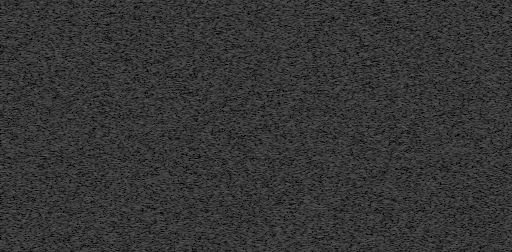wv_am: (197, 113, 202, 252), (197, 0, 202, 111)
wv_cw: (189, 0, 194, 233), (189, 236, 194, 252)
wv_lsb: (290, 151, 294, 191), (290, 6, 294, 43), (290, 200, 294, 237), (290, 51, 294, 78), (290, 128, 294, 150), (290, 111, 294, 127), (290, 85, 294, 101), (290, 238, 294, 248), (290, 102, 294, 110), (290, 192, 294, 199), (290, 44, 294, 50), (290, 79, 294, 84)
